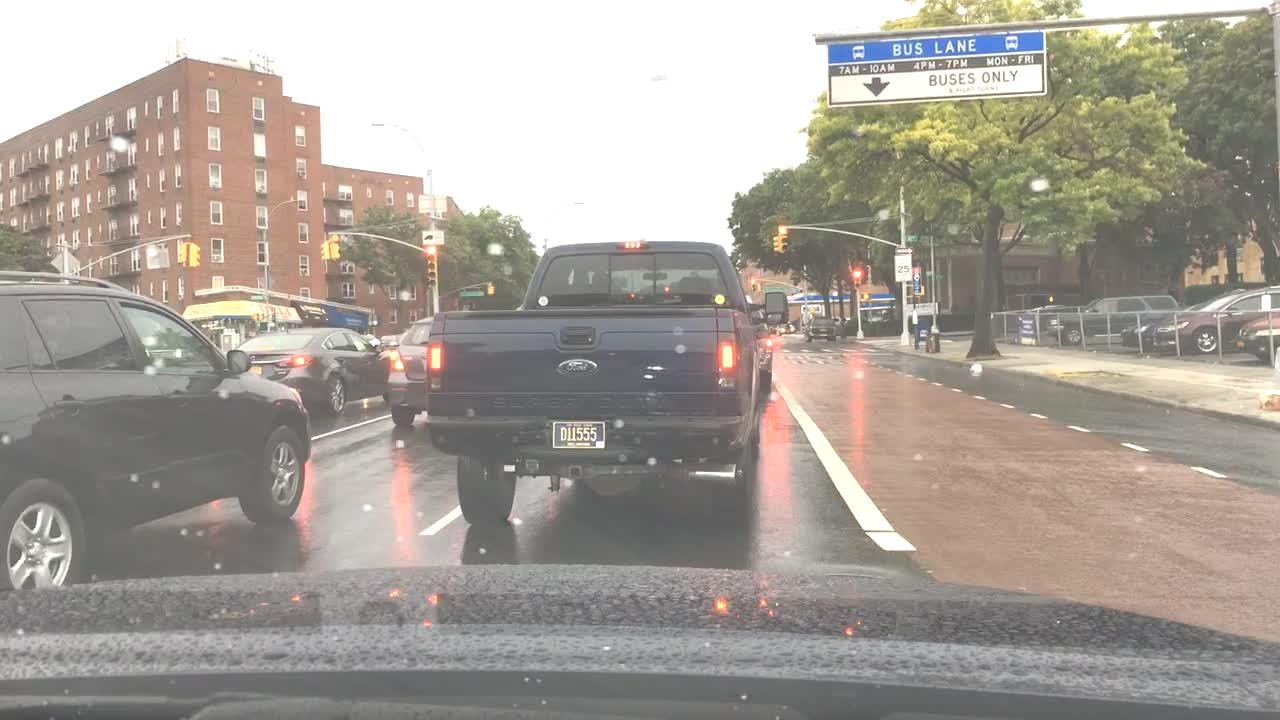ford: (545, 348, 608, 383)
